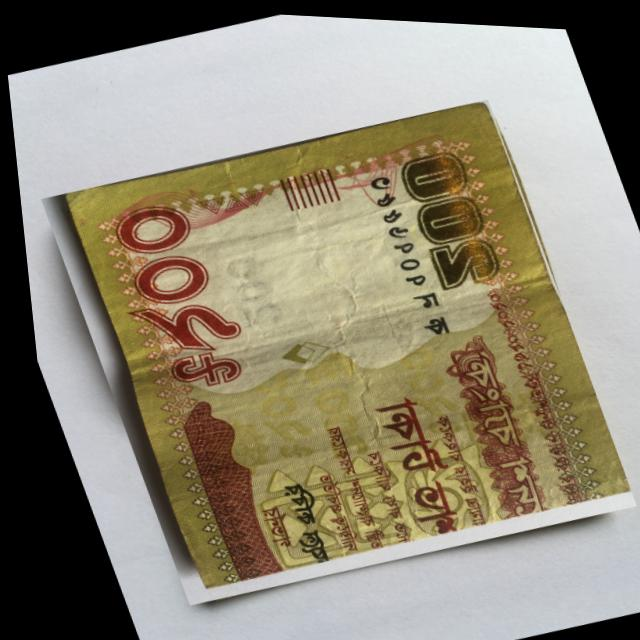Taka: (26, 75, 636, 622)
